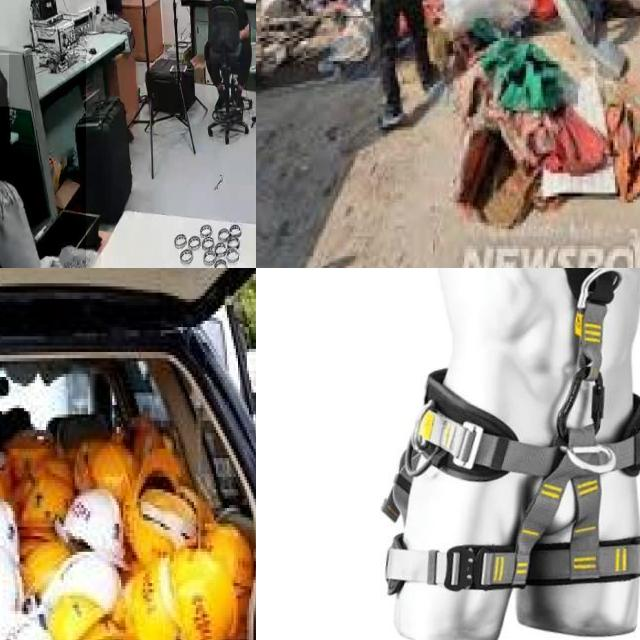Harness: (383, 268, 640, 590)
head_nohelmet: (0, 53, 9, 107)
person: (0, 55, 86, 268), (205, 0, 255, 124)
shoes: (234, 87, 248, 115), (214, 88, 229, 114)
